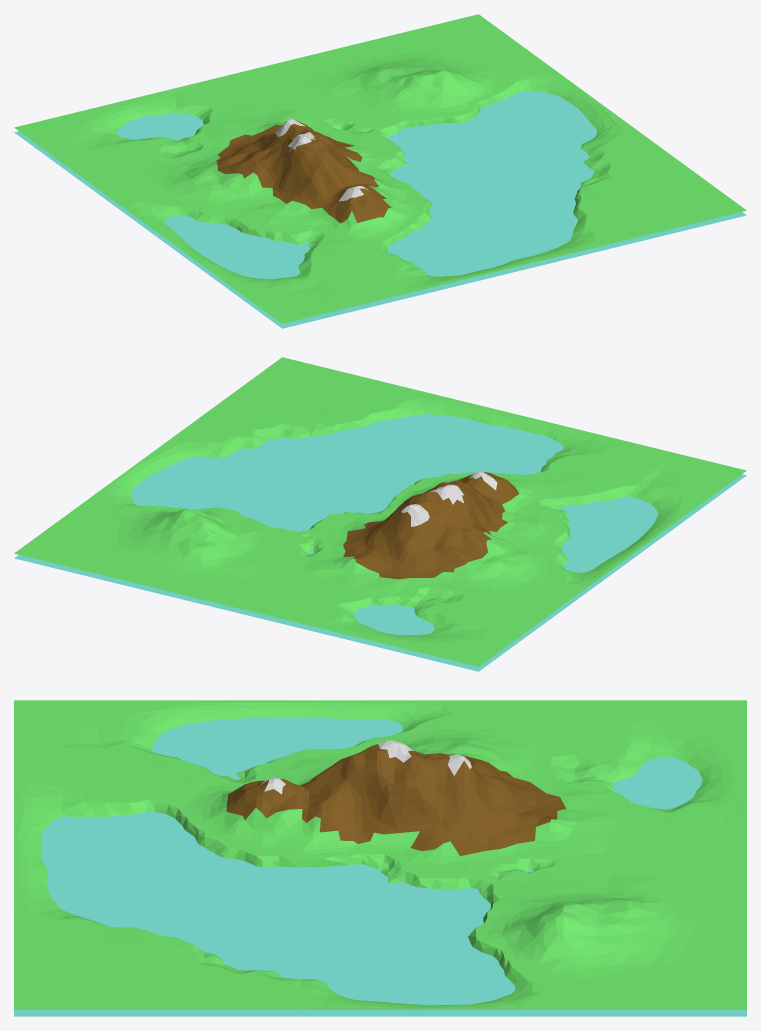
Rendered from mountain_bg.fbx.
The picture shows the model from 3 angles, top to bottom: view 1: azimuth 30°, elevation 25°; view 2: azimuth 150°, elevation 25°; view 3: azimuth 270°, elevation 25°; orthographic projection. The views are drawn at different scales.
Parts seen in each view (by area): view 1: Landscape.001, Landscape_plane; view 2: Landscape.001, Landscape_plane; view 3: Landscape.001, Landscape_plane.
Boxes of the visible parts, <box> form: Landscape.001: <box>14,14,746,323</box>; Landscape_plane: <box>14,90,746,328</box>; Landscape.001: <box>14,357,746,666</box>; Landscape_plane: <box>14,414,746,671</box>; Landscape.001: <box>14,700,746,1009</box>; Landscape_plane: <box>14,717,746,1016</box>.
Size of the model in its own units: 200 by 43.98 by 200.
